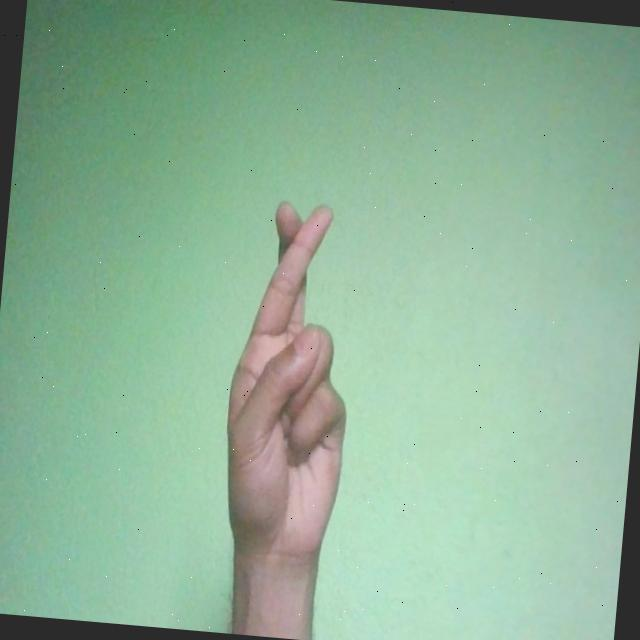Ok: (214, 195, 364, 569)
